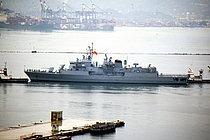MIL_Ship: (22, 44, 210, 85)
